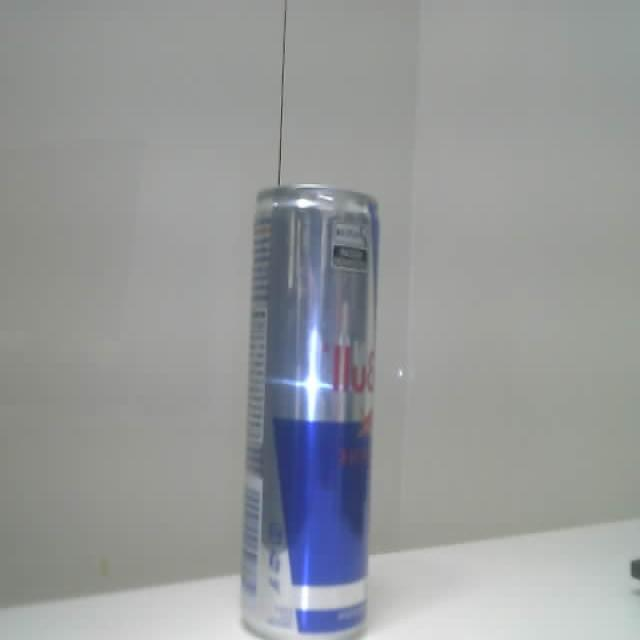redbull can: (242, 186, 378, 639)
